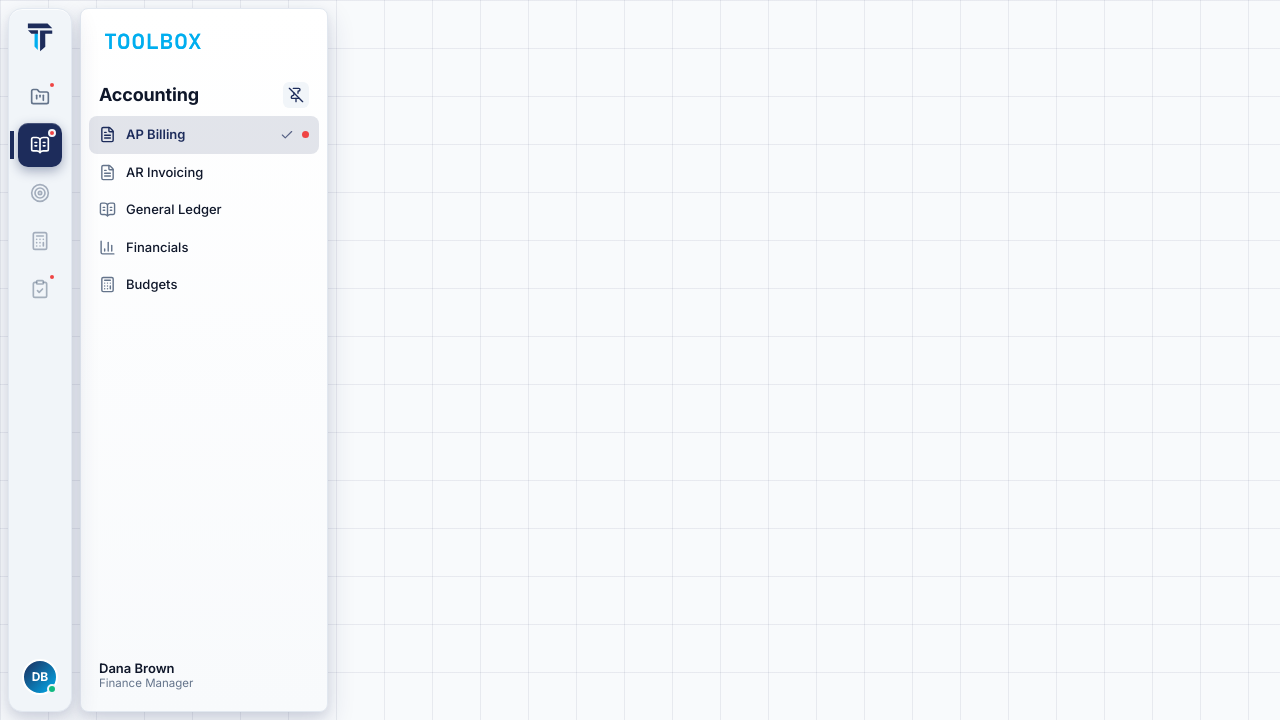
Scenario: SidebarRailPanel › collapses a pinned panel from the Toolbox rail mark while keeping the rail available
Expected: the navigation bar named "primary navigation rail" is shown, x1=18 y1=75 x2=62 y2=311
Expected: the heading "Accounting" is shown, x1=99 y1=81 x2=199 y2=108
What coordinates should you click on to do the following:
click the button named "collapse toolbox panel"
I would click on:
 (40, 37)
Its box is x1=9 y1=9 x2=71 y2=65.
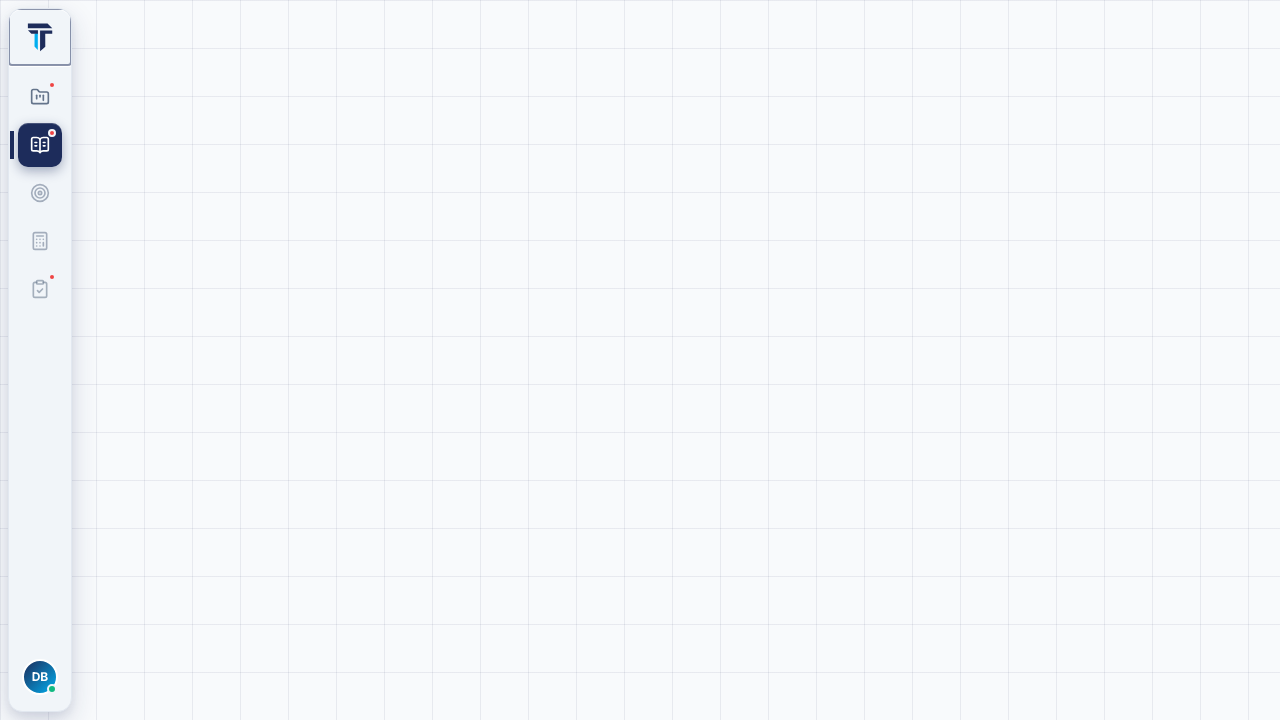
Expected: the navigation bar named "primary navigation rail" is shown, x1=18 y1=75 x2=62 y2=311
Now the heading "Accounting" is gone
